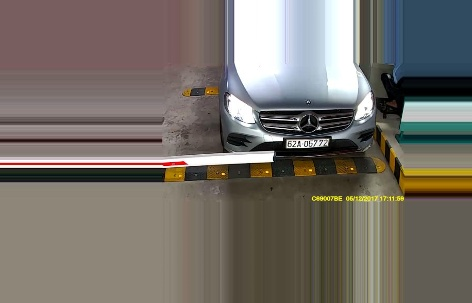plate: (282, 136, 335, 149)
